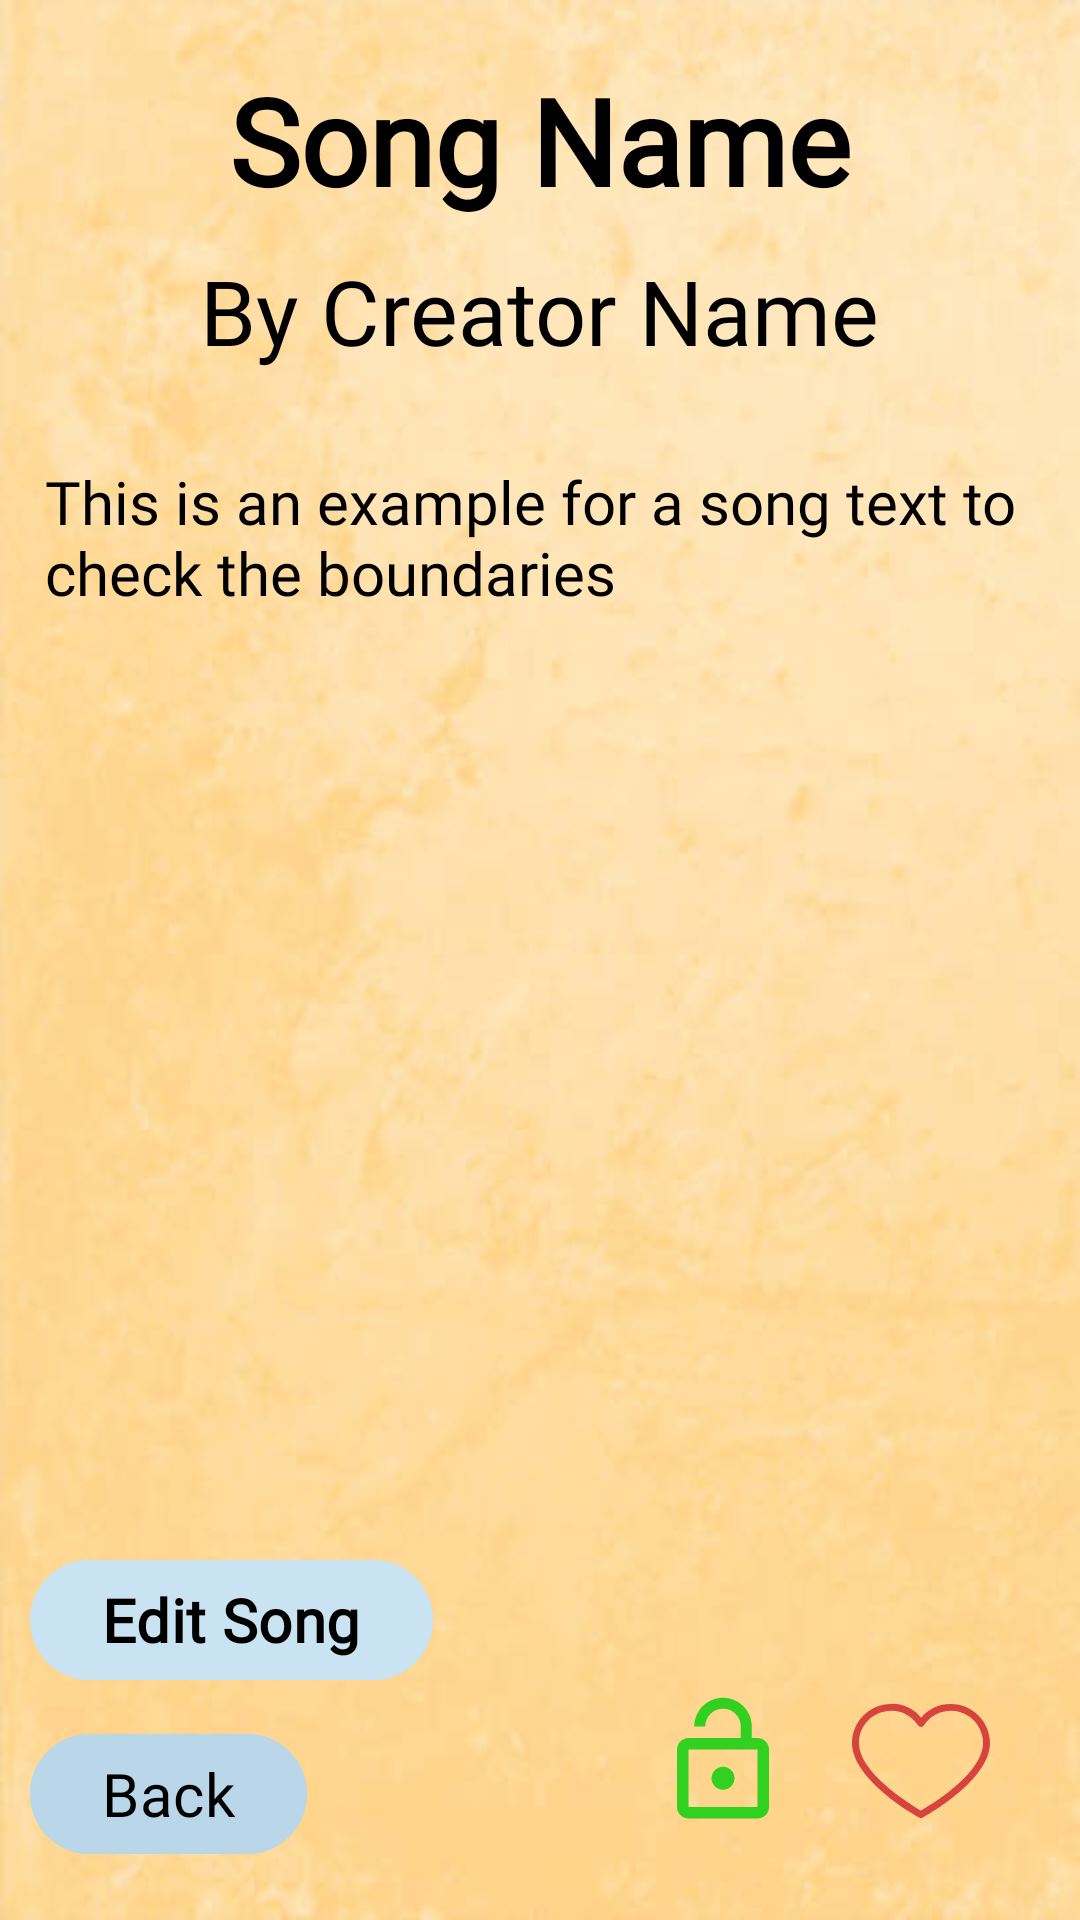

Point at icon controls on the screen. Image size 1080 × 1920, points as (x=x, y=y).
heart empty: (x=921, y=1766)
unlock: (x=723, y=1758)
